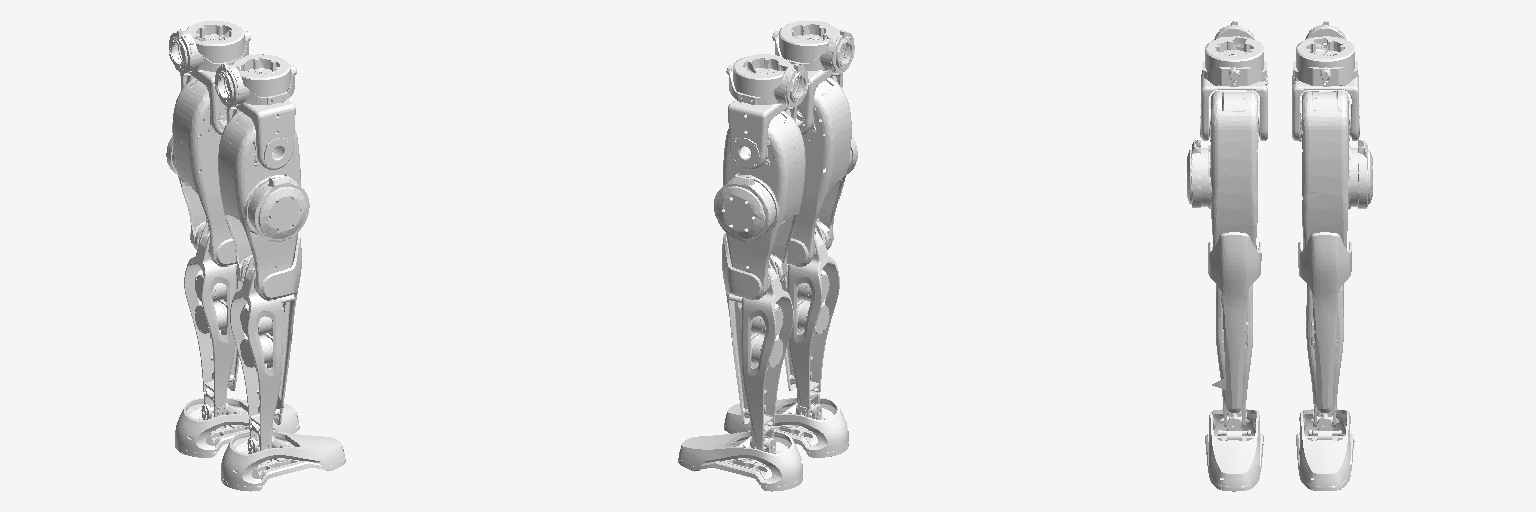
robot.urdf — biped_v3:
<?xml version="1.0" ?>
<!-- =================================================================================== -->
<!-- |    This document was autogenerated by xacro from [local-path]/workspace/kuavo-ros-control/src/humanoid-control/humanoid_interface_drake/models/biped_gen4.2/urdf/biped_v3.xacro | -->
<!-- |    EDITING THIS FILE BY HAND IS NOT RECOMMENDED                                 | -->
<!-- =================================================================================== -->
<robot name="biped_v3" xmlns:drake="https://drake.mit.edu">
  <link name="torso">
    <inertial>
      <origin xyz="-0.00505 0.0014 0.18077" rpy="0 0 0" />
      <mass value="34.8309" />
      <inertia ixx="0.28214" ixy="3e-05" ixz="0.01114" iyy="0.20534" iyz="0.00044" izz="0.13735" />
    </inertial>
    <visual>
      <origin rpy="0 0 0" xyz="0 0 0"/>
      <geometry>
        <mesh filename="../../meshes/base_link.STL"/>
      </geometry>
      <material name="">
        <color rgba="0.43137 0.45098 0.43137 1"/>
      </material>
    </visual>
    <!-- <collision>
      <origin xyz="0 0 0" rpy="0 0 0" />
      <geometry>
        <mesh filename="../../meshes/base_link.STL" />
      </geometry>
    </collision> -->
  </link>
  <link name="leg_l1_link">
    <inertial>
      <origin xyz="-0.00430148 -2.708e-05 -0.00851195" rpy="0 0 0" />
      <mass value="1.71093115" />
      <inertia ixx="0.00206092" ixy="1.97e-06" ixz="6.944e-05" iyy="0.00277274" iyz="-5.1e-06" izz="0.00370826" />
    </inertial>
    <visual>
      <origin xyz="0 0 0" rpy="0 0 0" />
      <geometry>
        <mesh filename="../../meshes/l_leg_roll.STL" />
      </geometry>
      <material name="">
        <color rgba="1 1 1 1" />
      </material>
    </visual>
  </link>
  <joint name="leg_l1_joint" type="revolute">
    <origin xyz="-0.0024999 0.087 -0.066" rpy="0 0 0" />
    <parent link="torso" />
    <child link="leg_l1_link" />
    <axis xyz="1 0 0" />
    <limit lower="-0.314159265358979" upper="0.663225115757845" effort="180.0" velocity="23.55" />
  </joint>
  <transmission type="SimpleTransmission">
    <joint name="leg_l1_joint" />
    <actuator name="leg_l1_joint_motor" />
  </transmission>
  <link name="leg_l2_link">
    <inertial>
      <origin xyz="0.0 -0.00231118 -0.09062539" rpy="0 0 0" />
      <mass value="0.58029165" />
      <inertia ixx="0.00223984" ixy="0.0" ixz="3e-08" iyy="0.00123175" iyz="-6.98e-06" izz="0.00146391" />
    </inertial>
    <visual>
      <origin xyz="0 0 0" rpy="0 0 0" />
      <geometry>
        <mesh filename="../../meshes/l_leg_yaw.STL" />
      </geometry>
      <material name="">
        <color rgba="1 1 1 1" />
      </material>
    </visual>
  </link>
  <joint name="leg_l2_joint" type="revolute">
    <origin xyz="0 0 0" rpy="0 0 0" />
    <parent link="leg_l1_link" />
    <child link="leg_l2_link" />
    <axis xyz="0 0 1" />
    <limit lower="-0.872664625997165" upper="0.785398163397448" effort="100.0" velocity="41.3433333333333" />
  </joint>
  <transmission type="SimpleTransmission">
    <joint name="leg_l2_joint" />
    <actuator name="leg_l2_joint_motor" />
  </transmission>
  <link name="leg_l3_link">
    <inertial>
      <origin xyz="0.00150537 0.01199614 -0.08411619" rpy="0 0 0" />
      <mass value="4.50393141" />
      <inertia ixx="0.0389365" ixy="7.866e-05" ixz="0.00102086" iyy="0.03942609" iyz="0.00219138" izz="0.00999961" />
    </inertial>
    <visual>
      <origin xyz="0 0 0" rpy="0 0 0" />
      <geometry>
        <mesh filename="../../meshes/l_leg_pitch.STL" />
      </geometry>
      <material name="">
        <color rgba="1 1 1 1" />
      </material>
    </visual>
  </link>
  <joint name="leg_l3_joint" type="revolute">
    <origin xyz="0.000500354536093913 -0.00100000000000011 -0.1287" rpy="0 0 0" />
    <parent link="leg_l2_link" />
    <child link="leg_l3_link" />
    <axis xyz="0 1 0" />
    <limit lower="-2.00712863979348" upper="1.5707963267949" effort="100.0" velocity="41.3433333333333" />
  </joint>
  <transmission type="SimpleTransmission">
    <joint name="leg_l3_joint" />
    <actuator name="leg_l3_joint_motor" />
  </transmission>
  <link name="leg_l4_link">
    <inertial>
      <origin xyz="0.00696242 5.314e-05 -0.11549851" rpy="0 0 0" />
      <mass value="1.62776815" />
      <inertia ixx="0.01243912" ixy="-2.29e-06" ixz="5.881e-05" iyy="0.01229563" iyz="-2.895e-05" izz="0.00097937" />
    </inertial>
    <visual>
      <origin xyz="0 0 0" rpy="0 0 0" />
      <geometry>
        <mesh filename="../../meshes/l_knee.STL" />
      </geometry>
      <material name="">
        <color rgba="1 1 1 1" />
      </material>
    </visual>
  </link>
  <joint name="leg_l4_joint" type="revolute">
    <origin xyz="-6.87185435835039E-05 0 -0.284" rpy="0 0 0" />
    <parent link="leg_l3_link" />
    <child link="leg_l4_link" />
    <axis xyz="0 1 0" />
    <limit lower="0.0" upper="2.53072741539178" effort="180.0" velocity="23.55" />
  </joint>
  <transmission type="SimpleTransmission">
    <joint name="leg_l4_joint" />
    <actuator name="leg_l4_joint_motor" />
  </transmission>
  <link name="leg_l5_link">
    <inertial>
      <origin xyz="0.0 0.0 0.0" rpy="0 0 0" />
      <mass value="0.07193524" />
      <inertia ixx="6.92e-06" ixy="0.0" ixz="0.0" iyy="6.92e-06" iyz="0.0" izz="1.218e-05" />
    </inertial>
    <visual>
      <origin xyz="0 0 0" rpy="0 0 0" />
      <geometry>
        <mesh filename="../../meshes/l_foot_pitch.STL" />
      </geometry>
      <material name="">
        <color rgba="1 1 1 1" />
      </material>
    </visual>
  </link>
  <joint name="leg_l5_joint" type="revolute">
    <origin xyz="-0.000431635992531742 0 -0.346000000000001" rpy="0 0 0" />
    <parent link="leg_l4_link" />
    <child link="leg_l5_link" />
    <axis xyz="0 1 0" />
    <limit lower="-0.872664625997165" upper="0.349065850398866" effort="36.0" velocity="23.0266666666667" />
  </joint>
  <transmission type="SimpleTransmission">
    <joint name="leg_l5_joint" />
    <actuator name="leg_l5_joint_motor" />
  </transmission>
  <link name="leg_l6_link">
    <inertial>
      <origin xyz="0.03732754 -2.22e-06 -0.03883977" rpy="0 0 0" />
      <mass value="0.49861272" />
      <inertia ixx="0.00039242" ixy="3e-08" ixz="4.664e-05" iyy="0.00158655" iyz="0.0" izz="0.00172576" />
    </inertial>
    <visual>
      <origin xyz="0 0 0" rpy="0 0 0" />
      <geometry>
        <mesh filename="../../meshes/l_foot_roll.STL" />
      </geometry>
      <material name="">
        <color rgba="1 1 1 1" />
      </material>
    </visual>
  </link>
  <joint name="leg_l6_joint" type="revolute">
    <origin xyz="0 0 0" rpy="0 0 0" />
    <parent link="leg_l5_link" />
    <child link="leg_l6_link" />
    <axis xyz="1 0 0" />
    <limit lower="-0.261799387799149" upper="0.261799387799149" effort="36.0" velocity="23.0266666666667" />
  </joint>
  <transmission type="SimpleTransmission">
    <joint name="leg_l6_joint" />
    <actuator name="leg_l6_joint_motor" />
  </transmission>
  <!-- sssssssss -->
  <frame link="leg_l6_link" name="l_foot_sole" xyz="0.048838 0.0 -0.0593"/>
  <frame link="leg_l6_link" name="l_foot_toe" xyz="0.17084 0.0 -0.0593"/>
  <frame link="leg_l6_link" name="l_foot_heel" xyz="-0.073164 0.0 -0.0593"/>
  <link name="leg_r1_link">
    <inertial>
      <origin xyz="-0.00430146 2.709e-05 -0.00851195" rpy="0 0 0" />
      <mass value="1.71093008" />
      <inertia ixx="0.00206092" ixy="-1.97e-06" ixz="6.944e-05" iyy="0.00277274" iyz="5.1e-06" izz="0.00370826" />
    </inertial>
    <visual>
      <origin xyz="0 0 0" rpy="0 0 0" />
      <geometry>
        <mesh filename="../../meshes/r_leg_roll.STL" />
      </geometry>
      <material name="">
        <color rgba="1 1 1 1" />
      </material>
    </visual>
  </link>
  <joint name="leg_r1_joint" type="revolute">
    <origin xyz="-0.0024999 -0.087 -0.066" rpy="0 0 0" />
    <parent link="torso" />
    <child link="leg_r1_link" />
    <axis xyz="1 0 0" />
    <limit lower="-0.663225115757845" upper="0.314159265358979" effort="180.0" velocity="23.55" />
  </joint>
  <transmission type="SimpleTransmission">
    <joint name="leg_r1_joint" />
    <actuator name="leg_r1_joint_motor" />
  </transmission>
  <link name="leg_r2_link">
    <inertial>
      <origin xyz="0.0 0.00231118 -0.09062539" rpy="0 0 0" />
      <mass value="0.58029165" />
      <inertia ixx="0.00223984" ixy="0.0" ixz="-3e-08" iyy="0.00123175" iyz="6.98e-06" izz="0.00146391" />
    </inertial>
    <visual>
      <origin xyz="0 0 0" rpy="0 0 0" />
      <geometry>
        <mesh filename="../../meshes/r_leg_yaw.STL" />
      </geometry>
      <material name="">
        <color rgba="1 1 1 1" />
      </material>
    </visual>
  </link>
  <joint name="leg_r2_joint" type="revolute">
    <origin xyz="0 0 0" rpy="0 0 0" />
    <parent link="leg_r1_link" />
    <child link="leg_r2_link" />
    <axis xyz="0 0 1" />
    <limit lower="-0.785398163397448" upper="0.872664625997165" effort="100.0" velocity="41.3433333333333" />
  </joint>
  <transmission type="SimpleTransmission">
    <joint name="leg_r2_joint" />
    <actuator name="leg_r2_joint_motor" />
  </transmission>
  <link name="leg_r3_link">
    <inertial>
      <origin xyz="0.00208315 -0.01199644 -0.08411379" rpy="0 0 0" />
      <mass value="4.50385993" />
      <inertia ixx="0.03893478" ixy="-7.792e-05" ixz="0.00103064" iyy="0.03942522" iyz="-0.00219154" izz="0.01000016" />
    </inertial>
    <visual>
      <origin xyz="0 0 0" rpy="0 0 0" />
      <geometry>
        <mesh filename="../../meshes/r_leg_pitch.STL" />
      </geometry>
      <material name="">
        <color rgba="1 1 1 1" />
      </material>
    </visual>
  </link>
  <joint name="leg_r3_joint" type="revolute">
    <origin xyz="-4.88006581312577E-05 0 -0.1287" rpy="0 0 0" />
    <parent link="leg_r2_link" />
    <child link="leg_r3_link" />
    <axis xyz="0 1 0" />
    <limit lower="-2.00712863979348" upper="1.5707963267949" effort="100.0" velocity="41.3433333333333" />
  </joint>
  <transmission type="SimpleTransmission">
    <joint name="leg_r3_joint" />
    <actuator name="leg_r3_joint_motor" />
  </transmission>
  <link name="leg_r4_link">
    <inertial>
      <origin xyz="0.00743231 -5.343e-05 -0.11558701" rpy="0 0 0" />
      <mass value="1.62655699" />
      <inertia ixx="0.01241258" ixy="2.28e-06" ixz="6.289e-05" iyy="0.0122692" iyz="2.902e-05" izz="0.00097927" />
    </inertial>
    <visual>
      <origin xyz="0 0 0" rpy="0 0 0" />
      <geometry>
        <mesh filename="../../meshes/r_knee.STL" />
      </geometry>
      <material name="">
        <color rgba="1 1 1 1" />
      </material>
    </visual>
  </link>
  <joint name="leg_r4_joint" type="revolute">
    <origin xyz="0.000147138572785148 0 -0.283999982974744" rpy="0 0 0" />
    <parent link="leg_r3_link" />
    <child link="leg_r4_link" />
    <axis xyz="0 1 0" />
    <limit lower="0.0" upper="2.53072741539178" effort="180.0" velocity="23.55" />
  </joint>
  <transmission type="SimpleTransmission">
    <joint name="leg_r4_joint" />
    <actuator name="leg_r4_joint_motor" />
  </transmission>
  <link name="leg_r5_link">
    <inertial>
      <origin xyz="0.0 0.0 0.0" rpy="0 0 0" />
      <mass value="0.07193524" />
      <inertia ixx="6.92e-06" ixy="0.0" ixz="0.0" iyy="6.92e-06" iyz="0.0" izz="1.218e-05" />
    </inertial>
    <visual>
      <origin xyz="0 0 0" rpy="0 0 0" />
      <geometry>
        <mesh filename="../../meshes/r_foot_pitch.STL" />
      </geometry>
      <material name="">
        <color rgba="1 1 1 1" />
      </material>
    </visual>
  </link>
  <joint name="leg_r5_joint" type="revolute">
    <origin xyz="0.000119806050928577 0 -0.345999979257963" rpy="0 0 0" />
    <parent link="leg_r4_link" />
    <child link="leg_r5_link" />
    <axis xyz="0 1 0" />
    <limit lower="-0.872664625997165" upper="0.349065850398866" effort="36.0" velocity="23.0266666666667" />
  </joint>
  <transmission type="SimpleTransmission">
    <joint name="leg_r5_joint" />
    <actuator name="leg_r5_joint_motor" />
  </transmission>
  <link name="leg_r6_link">
    <inertial>
      <origin xyz="0.03734098 -2.22e-06 -0.03882684" rpy="0 0 0" />
      <mass value="0.49861272" />
      <inertia ixx="0.00039238" ixy="3e-08" ixz="4.618e-05" iyy="0.00158655" iyz="0.0" izz="0.00172579" />
    </inertial>
    <visual>
      <origin xyz="0 0 0" rpy="0 0 0" />
      <geometry>
        <mesh filename="../../meshes/r_foot_roll.STL" />
      </geometry>
      <material name="">
        <color rgba="1 1 1 1" />
      </material>
    </visual>
  </link>
  <joint name="leg_r6_joint" type="revolute">
    <origin xyz="0 0 0" rpy="0 0 0" />
    <parent link="leg_r5_link" />
    <child link="leg_r6_link" />
    <axis xyz="1 0 0" />
    <limit lower="-0.261799387799149" upper="0.261799387799149" effort="36.0" velocity="23.0266666666667" />
  </joint>
  <transmission type="SimpleTransmission">
    <joint name="leg_r6_joint" />
    <actuator name="leg_r6_joint_motor" />
  </transmission>
  <!-- sssssssss -->
  <frame link="leg_r6_link" name="r_foot_sole" xyz="0.048838 0.0 -0.0593"/>
  <frame link="leg_r6_link" name="r_foot_toe" xyz="0.17084 0.0 -0.0593"/>
  <frame link="leg_r6_link" name="r_foot_heel" xyz="-0.073164 0.0 -0.0593"/>
</robot>

--- Render facts (derived) ---
3 views of the same robot in one strip: view 1: azimuth 30°, elevation 25°; view 2: azimuth 150°, elevation 25°; view 3: azimuth 270°, elevation 25° (orthographic).
Model biped_v3 with 13 links and 12 joints (12 revolute), rooted at torso, posed every joint at zero.
Links seen in each view (by area): view 1: leg_r3_link, leg_r4_link, leg_l4_link, leg_l3_link, leg_r6_link, leg_l6_link, leg_r1_link, leg_l1_link, leg_r2_link, leg_l2_link; view 2: leg_l3_link, leg_l4_link, leg_r4_link, leg_r3_link, leg_l6_link, leg_r6_link, leg_l1_link, leg_r1_link, leg_l2_link, leg_r2_link; view 3: leg_l3_link, leg_r3_link, leg_r4_link, leg_l4_link, leg_r6_link, leg_l6_link, leg_l1_link, leg_r1_link, leg_r2_link, leg_l2_link.
Link boxes in pixels (x1,y1,x2,y2): leg_r3_link: [218, 111, 309, 300]; leg_r4_link: [230, 233, 301, 450]; leg_l4_link: [184, 222, 245, 416]; leg_l3_link: [166, 77, 231, 266]; leg_r6_link: [221, 431, 345, 491]; leg_l6_link: [175, 398, 299, 457]; leg_r1_link: [215, 54, 296, 107]; leg_l1_link: [169, 20, 250, 73]; leg_r2_link: [227, 100, 295, 169]; leg_l2_link: [180, 71, 226, 135]; leg_l3_link: [714, 111, 805, 299]; leg_l4_link: [722, 233, 793, 450]; leg_r4_link: [778, 222, 839, 417]; leg_r3_link: [791, 77, 857, 266]; leg_l6_link: [678, 431, 802, 491]; leg_r6_link: [724, 398, 848, 457]; leg_l1_link: [726, 54, 808, 107]; leg_r1_link: [772, 20, 854, 73]; leg_l2_link: [728, 99, 796, 169]; leg_r2_link: [797, 70, 842, 134]; leg_l3_link: [1300, 90, 1372, 249]; leg_r3_link: [1187, 90, 1258, 249]; leg_r4_link: [1208, 232, 1261, 426]; leg_l4_link: [1298, 232, 1351, 426]; leg_r6_link: [1205, 409, 1263, 491]; leg_l6_link: [1296, 409, 1354, 490]; leg_l1_link: [1293, 21, 1357, 86]; leg_r1_link: [1202, 21, 1266, 86]; leg_r2_link: [1200, 74, 1267, 140]; leg_l2_link: [1292, 74, 1359, 140].
Bounding box of the posed robot: 0.2597 × 0.3557 × 0.8751 m (x, y, z).
12 mesh visuals loaded from 13 distinct referenced files (12 binary STL); not drawn: 1 (reference not matched to a file when rendering).